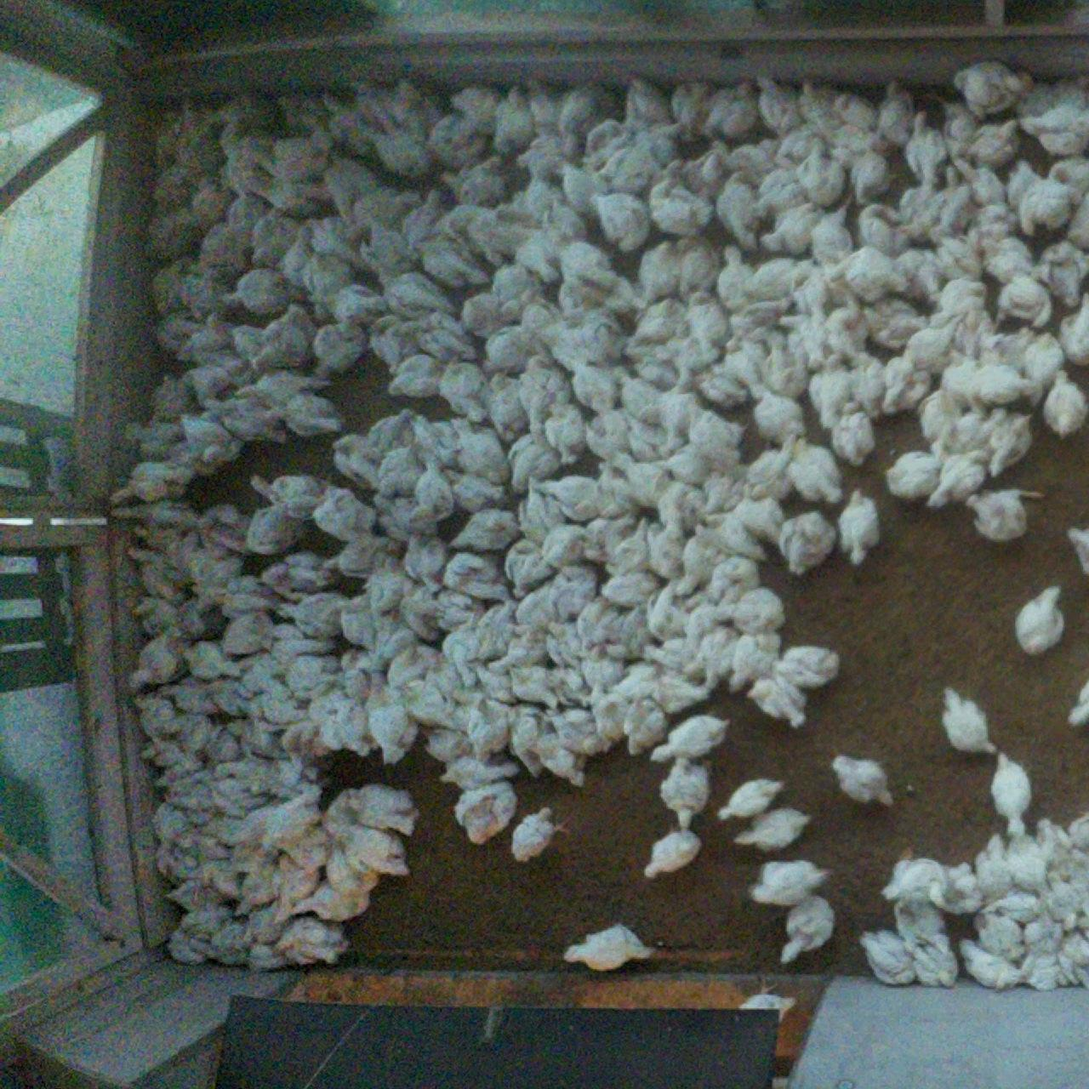chicken: (560, 921, 660, 975), (264, 212, 324, 296), (362, 687, 420, 772), (506, 413, 564, 498), (246, 171, 342, 221), (408, 235, 491, 292), (452, 781, 523, 846), (202, 394, 294, 444), (645, 178, 718, 241), (965, 489, 1048, 544), (650, 711, 737, 763), (953, 60, 1032, 117), (285, 875, 375, 925), (746, 859, 837, 908), (249, 128, 340, 177), (509, 802, 579, 865), (163, 102, 221, 178), (687, 288, 742, 368), (831, 246, 911, 300), (408, 309, 482, 367), (313, 482, 381, 545), (251, 309, 319, 372), (519, 356, 576, 431), (439, 550, 515, 606), (717, 172, 768, 255), (107, 458, 195, 506), (721, 297, 795, 354), (468, 206, 543, 262), (778, 895, 837, 966), (374, 268, 456, 319), (515, 479, 580, 543), (777, 511, 839, 578), (689, 404, 751, 471), (244, 205, 306, 272), (940, 685, 999, 755), (551, 78, 622, 136), (433, 360, 496, 425), (733, 806, 820, 853), (899, 109, 951, 187), (248, 471, 336, 517), (308, 317, 371, 381), (451, 416, 512, 482), (1028, 239, 1089, 305), (586, 393, 638, 470), (990, 751, 1037, 836), (433, 620, 484, 698), (532, 473, 610, 524), (169, 312, 244, 365), (898, 312, 963, 373), (729, 584, 795, 644), (658, 755, 712, 828), (347, 785, 424, 836), (620, 343, 697, 394), (698, 510, 772, 563), (828, 755, 898, 811), (839, 486, 885, 571), (925, 451, 991, 510), (480, 369, 534, 441), (931, 406, 1008, 456), (310, 691, 372, 753), (644, 581, 706, 643), (857, 926, 921, 986), (125, 540, 184, 605), (577, 115, 642, 174), (807, 353, 858, 428), (274, 593, 357, 639), (207, 95, 276, 150), (680, 625, 743, 685), (1016, 586, 1070, 656), (463, 696, 521, 761), (213, 133, 271, 198), (318, 94, 376, 159), (420, 115, 491, 168), (369, 487, 441, 539), (513, 131, 585, 183), (269, 919, 354, 963), (192, 223, 253, 284), (264, 792, 326, 852), (789, 435, 848, 498), (994, 273, 1057, 332), (298, 252, 363, 309), (175, 416, 252, 464), (242, 501, 309, 556), (185, 551, 245, 612), (408, 410, 466, 473), (322, 535, 405, 579), (507, 577, 572, 633), (235, 268, 300, 324), (1037, 371, 1089, 441), (727, 632, 782, 698), (108, 495, 201, 534), (318, 281, 395, 328), (434, 159, 512, 205), (663, 149, 732, 201), (863, 299, 932, 351), (747, 675, 811, 731), (442, 465, 512, 516), (382, 642, 448, 696), (956, 937, 1019, 993), (580, 510, 643, 566), (595, 191, 651, 254), (597, 142, 660, 198), (667, 78, 723, 141), (603, 515, 658, 579), (397, 577, 448, 646), (962, 118, 1031, 169), (192, 767, 262, 817), (347, 825, 413, 878), (359, 607, 425, 660), (985, 412, 1038, 478), (758, 204, 824, 257), (510, 235, 577, 287), (541, 705, 615, 752), (712, 138, 786, 185), (363, 130, 435, 178), (875, 75, 923, 147), (228, 649, 297, 699), (609, 460, 678, 510), (701, 80, 761, 137), (736, 256, 817, 298), (640, 827, 704, 880), (447, 507, 522, 552), (576, 464, 642, 515), (794, 72, 845, 138), (333, 643, 389, 703), (795, 258, 855, 314), (437, 752, 523, 791), (218, 799, 281, 852), (674, 529, 723, 597), (801, 144, 853, 208), (812, 124, 893, 165), (718, 774, 790, 820), (488, 83, 534, 155), (1017, 74, 1089, 120), (262, 623, 339, 666), (126, 635, 182, 694), (487, 628, 554, 677), (195, 505, 258, 557), (622, 401, 674, 464), (211, 611, 279, 659), (1023, 332, 1067, 406), (898, 186, 955, 243), (753, 392, 812, 447), (1020, 108, 1089, 155), (550, 561, 604, 621), (623, 73, 677, 133), (348, 187, 425, 229), (966, 362, 1032, 411), (322, 844, 383, 897), (179, 266, 240, 319), (234, 369, 335, 401), (769, 645, 844, 688), (628, 118, 690, 170), (272, 828, 342, 874), (733, 979, 803, 1025), (587, 683, 638, 746), (121, 418, 189, 465), (508, 704, 550, 780), (147, 369, 204, 425), (930, 863, 988, 918), (928, 231, 986, 286), (657, 480, 716, 534), (471, 599, 520, 664), (960, 199, 1021, 251), (155, 710, 227, 754), (430, 586, 496, 634), (743, 440, 793, 503), (630, 297, 693, 347), (672, 237, 721, 301), (832, 399, 878, 467), (491, 262, 543, 322), (482, 325, 544, 375), (404, 677, 460, 732), (887, 448, 943, 503), (1016, 180, 1071, 236), (138, 211, 192, 268), (324, 154, 378, 211), (858, 200, 912, 257), (259, 550, 337, 589), (357, 226, 412, 281), (708, 555, 764, 609), (220, 318, 276, 372), (934, 165, 979, 232), (936, 350, 987, 409), (977, 325, 1039, 373), (547, 400, 592, 466), (637, 239, 682, 305), (911, 932, 963, 989), (880, 361, 932, 418), (214, 577, 288, 617), (360, 552, 411, 610), (145, 256, 195, 315), (535, 323, 594, 373), (894, 893, 949, 946), (190, 179, 242, 235), (176, 643, 247, 684), (599, 569, 670, 610), (725, 337, 776, 394), (504, 540, 553, 599), (537, 522, 596, 571), (387, 354, 446, 403), (801, 305, 849, 365), (851, 347, 892, 417), (301, 211, 362, 258), (825, 301, 878, 355), (398, 188, 453, 240), (347, 80, 399, 135), (277, 395, 345, 437), (762, 343, 813, 399), (284, 652, 342, 701), (131, 596, 189, 645), (404, 530, 453, 588), (811, 197, 856, 260), (391, 78, 438, 138), (953, 155, 1007, 207), (1005, 834, 1051, 895), (882, 857, 943, 903), (647, 672, 717, 712), (558, 164, 608, 220), (521, 77, 570, 134), (644, 523, 692, 581), (979, 235, 1039, 281), (331, 432, 383, 485), (570, 361, 622, 414), (850, 155, 901, 209), (581, 305, 630, 361), (469, 661, 526, 709), (757, 75, 800, 138), (614, 595, 655, 661), (579, 641, 631, 693), (271, 850, 324, 901), (234, 866, 285, 919), (538, 199, 591, 250), (772, 306, 814, 370), (583, 266, 640, 313), (734, 495, 793, 540), (541, 736, 592, 788), (150, 166, 203, 216), (715, 242, 755, 308), (938, 98, 979, 162), (190, 857, 251, 900), (415, 459, 457, 521), (694, 366, 753, 410), (508, 668, 562, 716), (891, 246, 939, 300), (621, 701, 668, 756), (915, 388, 961, 444), (974, 911, 1026, 960), (197, 676, 259, 717), (769, 127, 823, 174), (575, 595, 618, 654), (663, 392, 706, 451), (611, 657, 666, 703), (973, 834, 1015, 894), (178, 902, 238, 944), (557, 240, 617, 282), (367, 405, 417, 455), (370, 314, 419, 365), (276, 718, 334, 761), (162, 876, 231, 912), (216, 752, 278, 792), (155, 674, 214, 716), (446, 80, 502, 124), (1034, 814, 1074, 875), (173, 790, 226, 836), (275, 93, 330, 137), (322, 785, 361, 847), (702, 464, 749, 515), (1058, 290, 1089, 367), (926, 274, 990, 311), (674, 599, 736, 637), (547, 659, 596, 707), (658, 335, 709, 381), (544, 617, 589, 669), (378, 445, 422, 498), (224, 189, 264, 247), (234, 719, 289, 761), (179, 827, 238, 866), (241, 900, 293, 944), (416, 724, 473, 764), (981, 885, 1044, 921), (757, 170, 804, 218), (254, 683, 305, 727), (181, 362, 237, 402), (1047, 154, 1089, 207), (205, 921, 252, 968), (515, 173, 559, 222), (336, 595, 377, 647), (199, 722, 245, 768), (460, 293, 508, 337), (953, 308, 997, 356), (553, 275, 595, 325), (147, 312, 198, 353), (272, 758, 324, 798), (641, 634, 695, 672), (1003, 157, 1043, 208), (833, 86, 878, 131), (154, 842, 201, 885), (146, 804, 195, 845), (441, 204, 495, 241), (1015, 951, 1062, 993), (519, 289, 559, 338), (230, 836, 283, 872), (1023, 910, 1065, 955), (146, 739, 200, 773), (134, 691, 172, 739), (663, 447, 711, 485), (157, 763, 202, 803), (1059, 934, 1089, 989), (178, 593, 212, 641), (167, 529, 206, 570), (1063, 189, 1089, 250), (241, 940, 285, 976), (1045, 874, 1079, 919), (165, 930, 206, 966), (621, 375, 657, 411), (1068, 840, 1089, 901), (1067, 524, 1089, 576), (1065, 896, 1089, 942), (132, 525, 176, 550), (1065, 807, 1089, 850), (1069, 678, 1089, 729)
